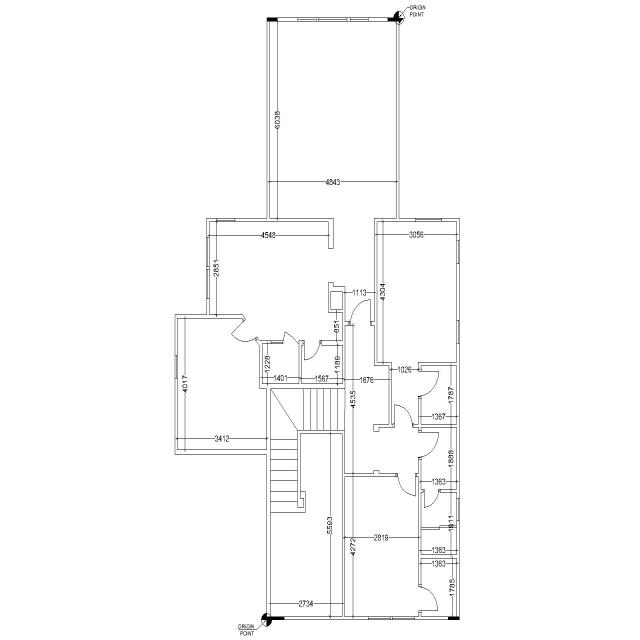Column: (267, 616, 284, 620), (448, 616, 460, 620), (266, 18, 278, 22), (388, 18, 399, 22)
Door: (231, 317, 259, 352), (348, 299, 372, 326), (418, 369, 439, 399), (418, 430, 439, 460), (418, 585, 438, 613), (393, 404, 414, 428), (396, 473, 416, 497), (302, 340, 322, 361), (423, 489, 440, 508), (283, 331, 299, 344)
Double-Door: (422, 526, 456, 530)
Staircase: (271, 389, 345, 513)
Window: (318, 18, 347, 22), (416, 218, 442, 222), (456, 240, 460, 264), (368, 616, 391, 620), (392, 616, 415, 620), (207, 237, 210, 267), (207, 269, 210, 299), (298, 18, 316, 22), (350, 18, 368, 22), (217, 218, 235, 222), (456, 320, 459, 344), (175, 355, 178, 379), (456, 498, 459, 521), (271, 341, 283, 344)
